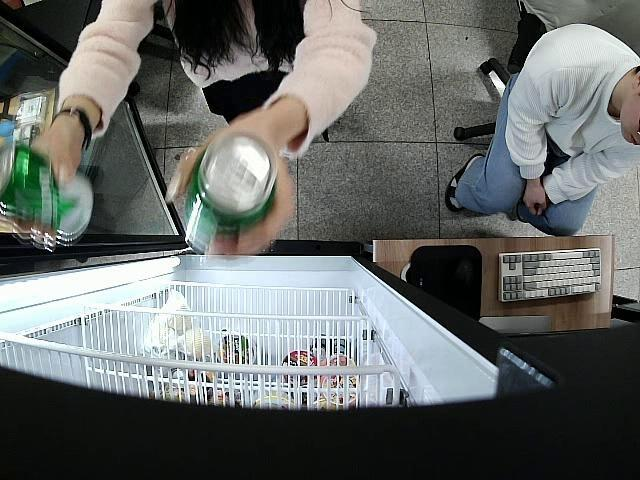12_chilsungCider: (179, 132, 280, 259), (0, 144, 93, 246)
